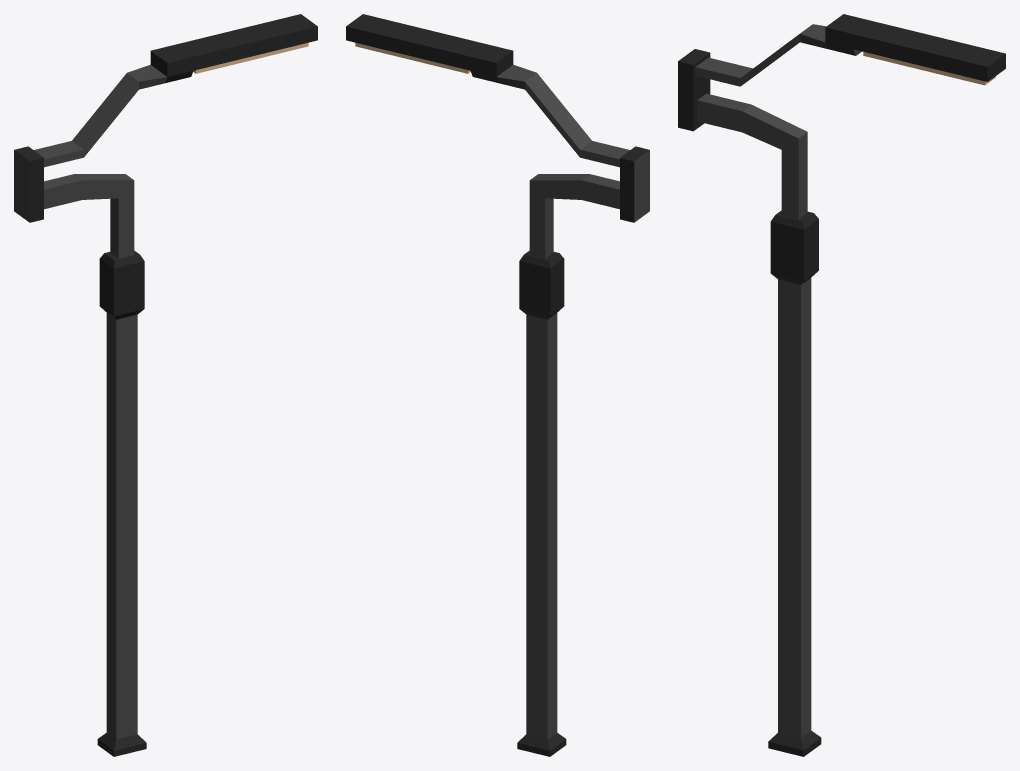
Rendered from StreetLight.fbx.
3 views of the same model, side by side, from view 1: azimuth 30°, elevation 25°; view 2: azimuth 150°, elevation 25°; view 3: azimuth 330°, elevation 25° (orthographic). The views are drawn at different scales.
Visible parts, largest first — view 1: Cube.013; view 2: Cube.013; view 3: Cube.013.
Boxes of the visible parts, x1,y1,x2,y2 form: Cube.013: [14, 14, 317, 756]; Cube.013: [346, 14, 649, 756]; Cube.013: [678, 14, 1005, 756].
Size of the model in its own units: 2.87 by 6.49 by 0.2926.
